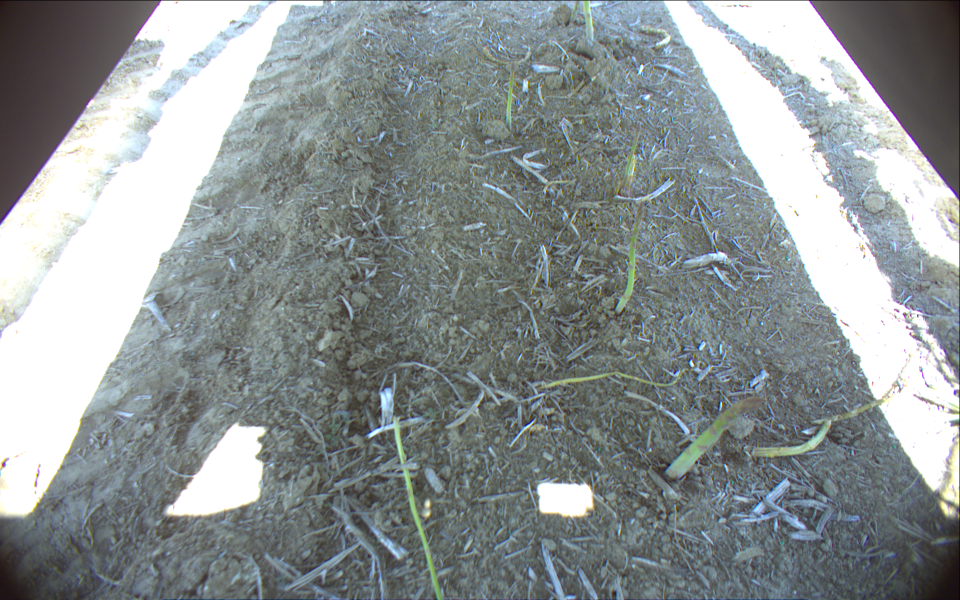aspa: (659, 392, 767, 487), (611, 200, 646, 320), (619, 131, 644, 202), (500, 62, 517, 133), (581, 1, 596, 46)
